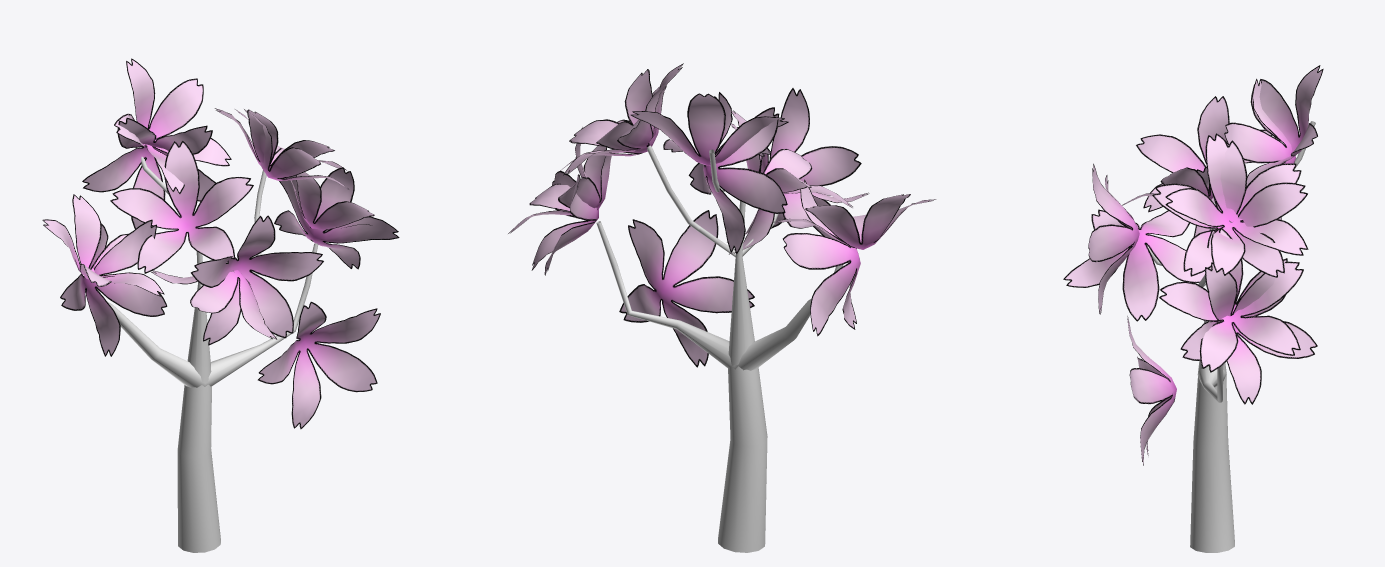
Rendered from Stage 2 Img Asset.fbx.
3 views of the same model, side by side, from view 1: azimuth 30°, elevation 25°; view 2: azimuth 150°, elevation 25°; view 3: azimuth 270°, elevation 25° (orthographic). The views are drawn at different scales.
Visible parts, largest first — view 1: Plane.003, Vert.016; view 2: Plane.003, Vert.016; view 3: Plane.003, Vert.016.
Part boxes in pixels (box(x1,y1,x2,y2)): Plane.003: box(42, 58, 399, 429); Vert.016: box(97, 147, 318, 552); Plane.003: box(508, 63, 936, 367); Vert.016: box(596, 145, 843, 552); Plane.003: box(1063, 65, 1323, 465); Vert.016: box(1147, 121, 1315, 552).
Size of the model in its own units: 936 by 993 by 645.
